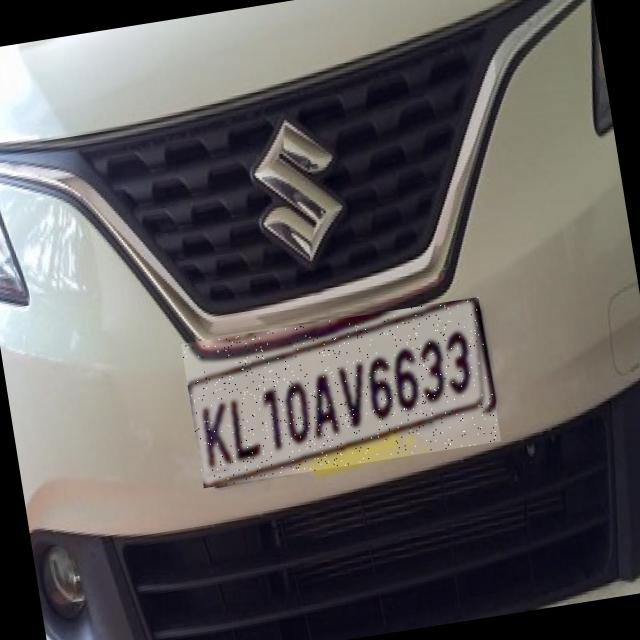Plate: (182, 298, 502, 489)
